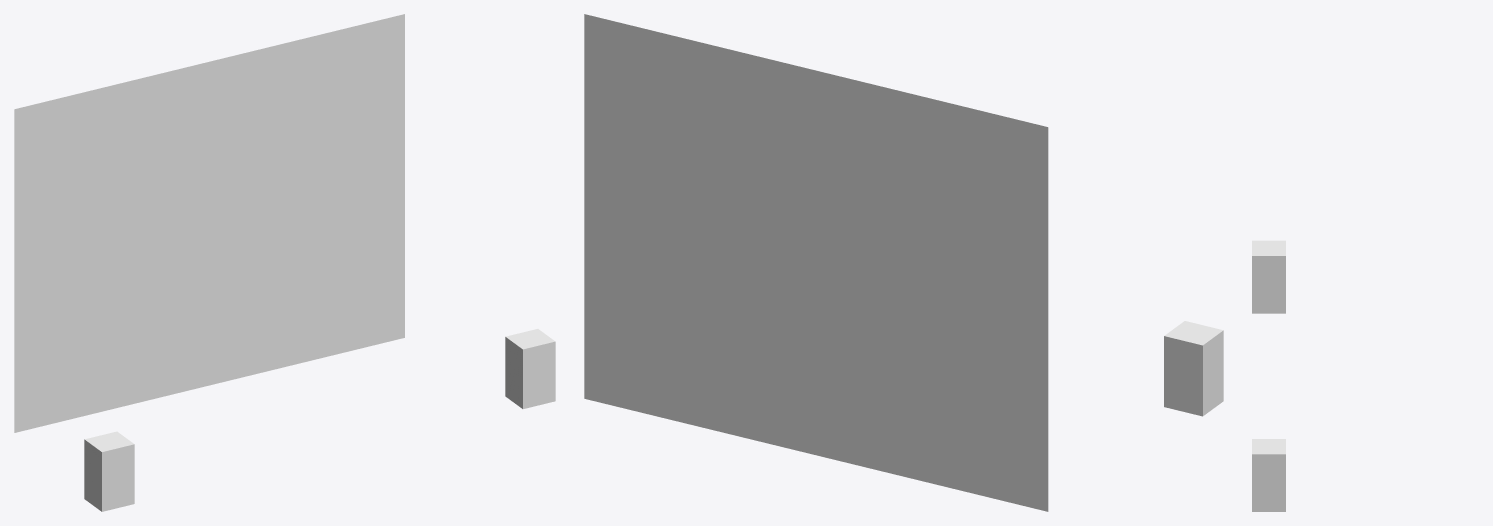
3 renders of one model, left to right at view 1: azimuth 30°, elevation 25°; view 2: azimuth 150°, elevation 25°; view 3: azimuth 270°, elevation 25°, orthographic. The views are drawn at different scales.
Parts seen in each view (by area): view 1: Room; view 2: Room; view 3: Room.
Boxes of the visible parts, x1,y1,x2,y2 form: Room: (14, 14, 555, 511); Room: (584, 14, 1223, 511); Room: (1252, 240, 1285, 511).
Size of the model in its own units: 24.49 by 16.71 by 10.99.
1 material, 1 textured.
